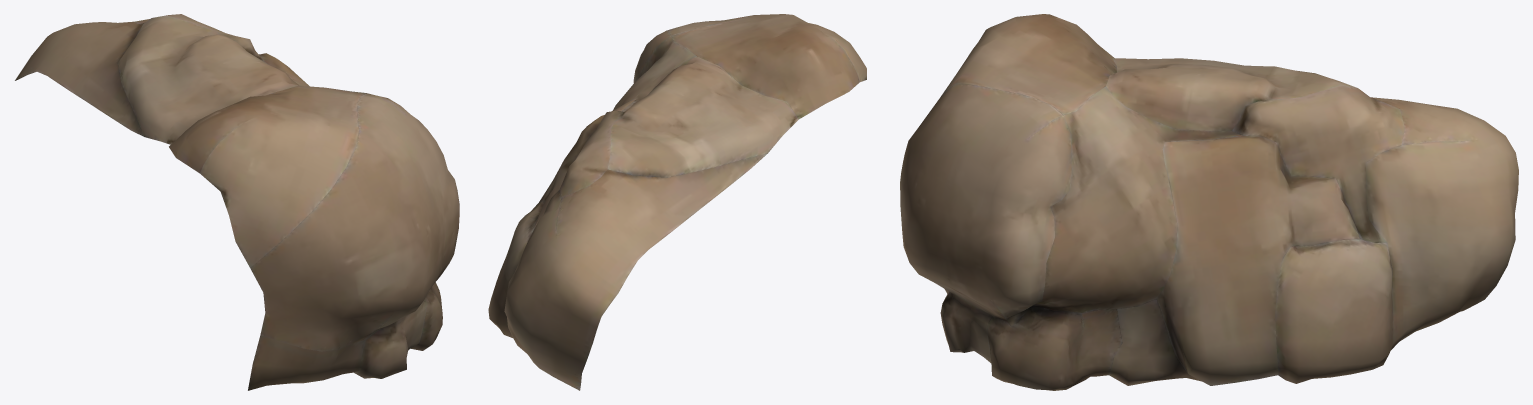
3 renders of one model, left to right at view 1: azimuth 30°, elevation 25°; view 2: azimuth 150°, elevation 25°; view 3: azimuth 270°, elevation 25°, orthographic. The views are drawn at different scales.
Parts seen in each view (by area): view 1: body0_model0_lod0_mesh0; view 2: body0_model0_lod0_mesh0; view 3: body0_model0_lod0_mesh0.
Part boxes in pixels (x1,y1,x2,y2): body0_model0_lod0_mesh0: (15,14,459,390); body0_model0_lod0_mesh0: (488,14,866,390); body0_model0_lod0_mesh0: (900,14,1518,390).
Bounding box in the file's own units: 187 × 179 × 355.
Materials: 1 (1 with a texture image).
